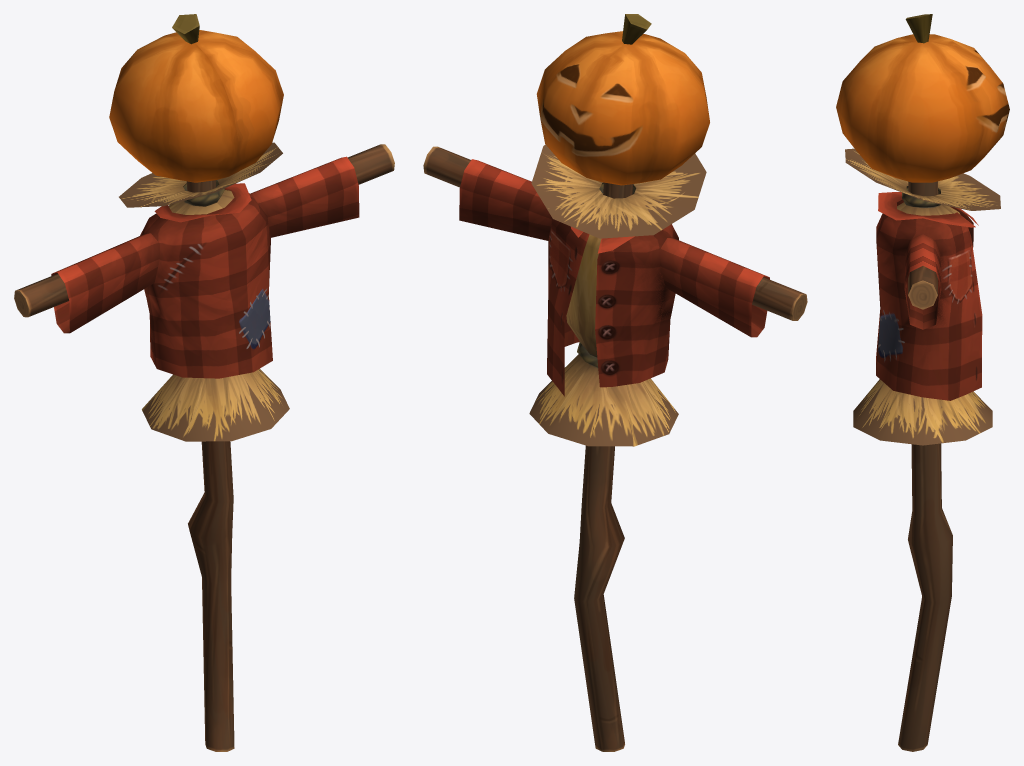
The model's file is Scarecrow.fbx.
The picture shows the model from 3 angles, left to right: view 1: azimuth 30°, elevation 25°; view 2: azimuth 150°, elevation 25°; view 3: azimuth 270°, elevation 25°; orthographic projection. The views are drawn at different scales.
Parts seen in each view (by area): view 1: polySurface2215; view 2: polySurface2215; view 3: polySurface2215.
Boxes of the visible parts, box(x1,y1,x2,y2) form: polySurface2215: box(14, 14, 394, 751); polySurface2215: box(423, 14, 807, 751); polySurface2215: box(836, 14, 1009, 751).
Bounding box in the file's own units: 97.65 × 185 × 40.63.
